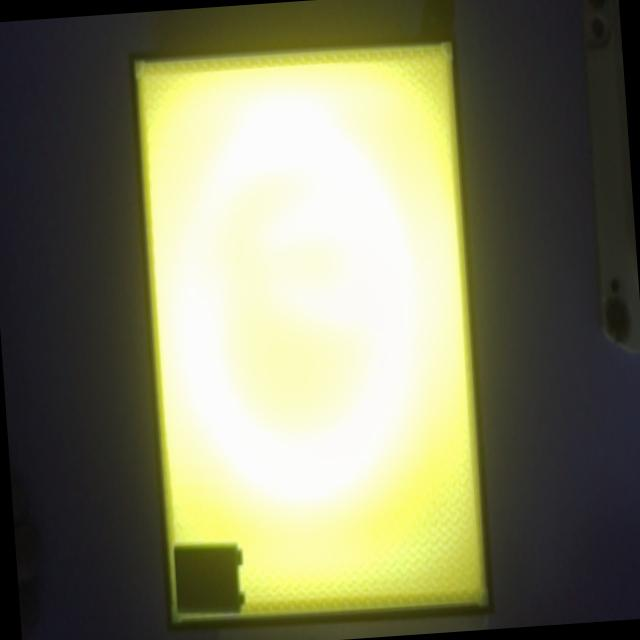bateria: (173, 542, 246, 613)
mesa: (128, 31, 493, 630)
